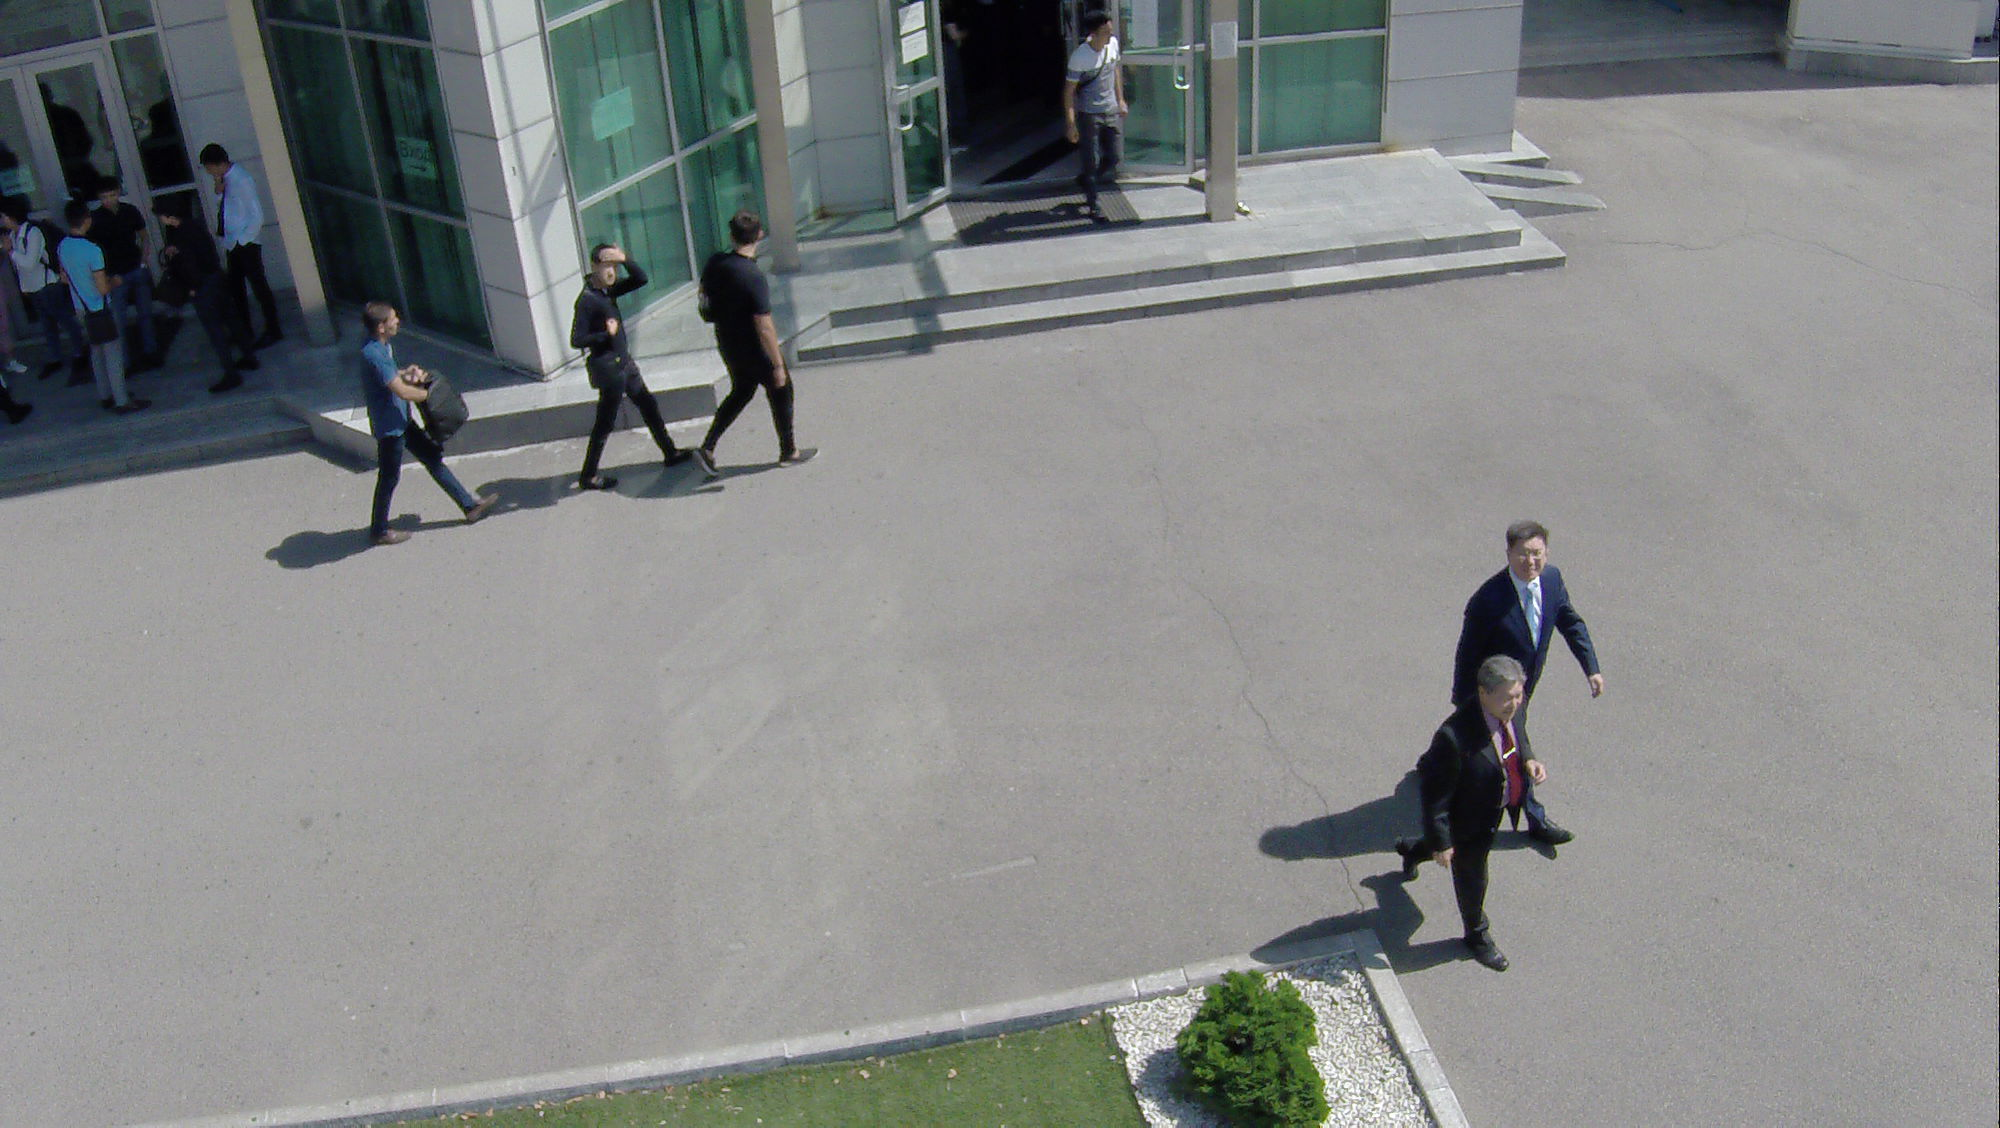person: (1395, 647, 1526, 995), (337, 291, 503, 553), (687, 201, 824, 485), (557, 235, 682, 510), (153, 185, 258, 406), (54, 189, 157, 416), (1462, 497, 1591, 658), (199, 126, 286, 351), (1, 201, 95, 394), (1064, 8, 1135, 233), (94, 176, 165, 359)
